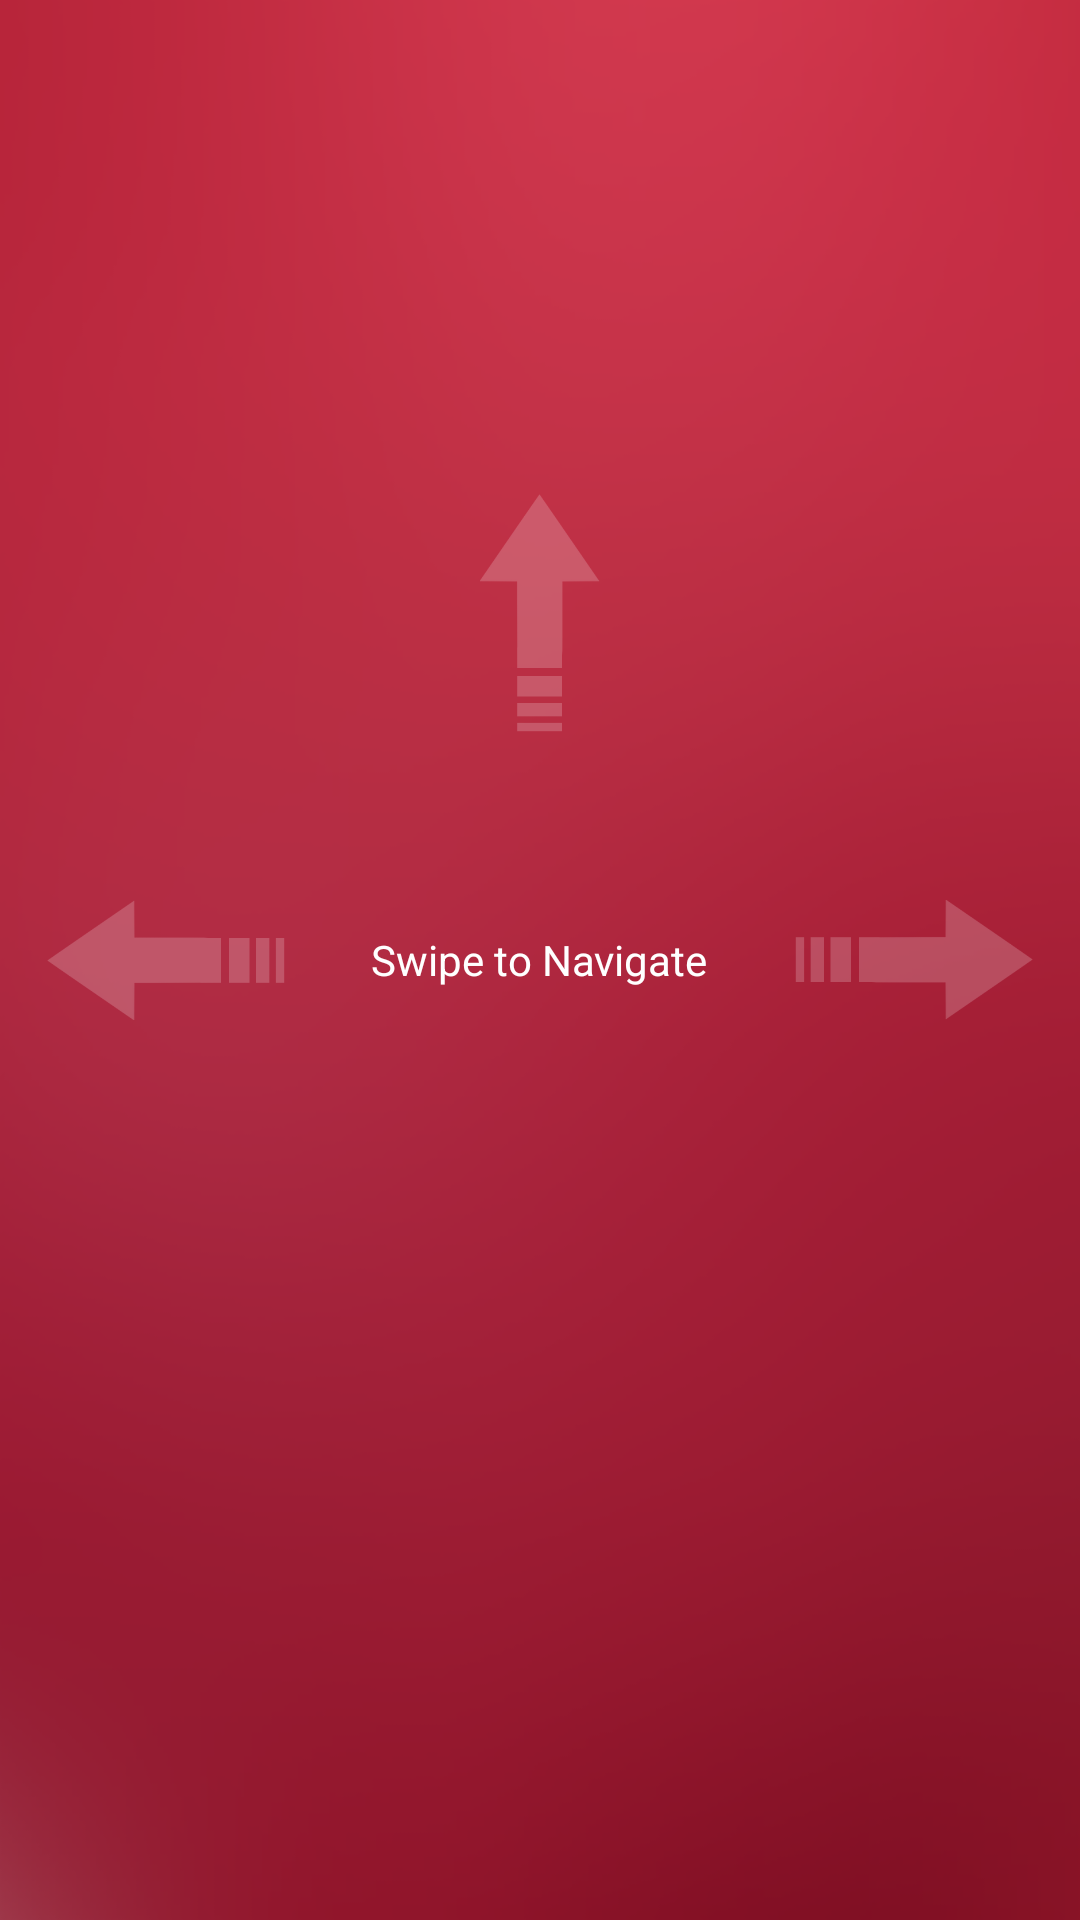

Icons on this 1080x1920 Android screen, each with its box as (x1, y1, x2, y2):
left arrow: (48, 901, 284, 1020)
right arrow: (796, 900, 1032, 1019)
up arrow: (480, 495, 599, 731)
